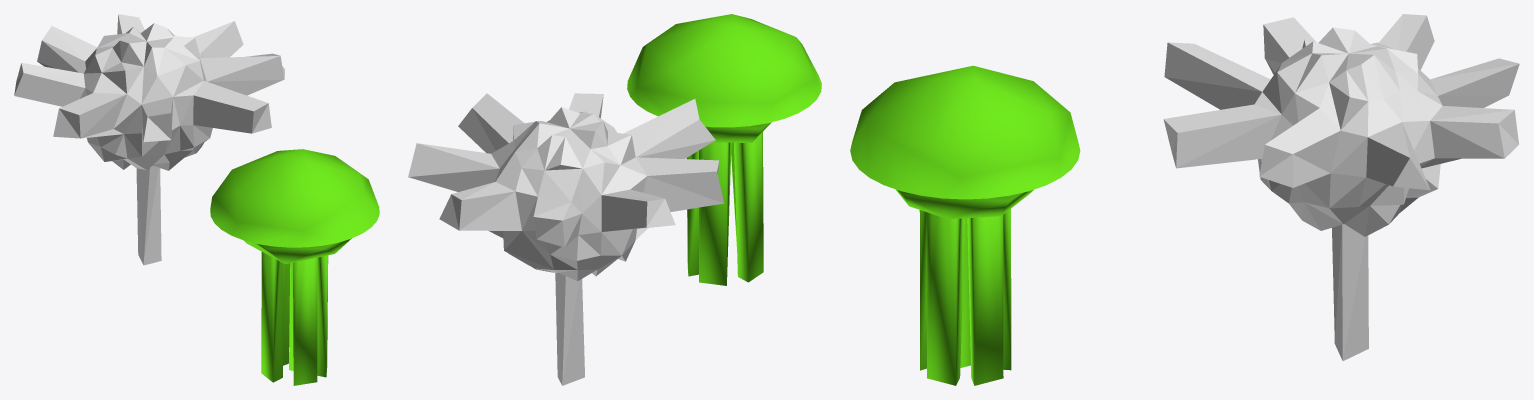
Rendered from plant.fbx.
The picture shows the model from 3 angles, left to right: view 1: azimuth 30°, elevation 25°; view 2: azimuth 150°, elevation 25°; view 3: azimuth 270°, elevation 25°; orthographic projection. The views are drawn at different scales.
Parts seen in each view (by area): view 1: Sphere.002, Sphere; view 2: Sphere.002, Sphere; view 3: Sphere.002, Sphere.
Part boxes in pixels (x1,y1,x2,y2): Sphere.002: (14,14,284,265); Sphere: (210,149,379,385); Sphere.002: (408,93,724,385); Sphere: (627,14,821,285); Sphere.002: (1163,14,1519,360); Sphere: (850,65,1080,385).
Size of the model in its own units: 427 by 415 by 788.
